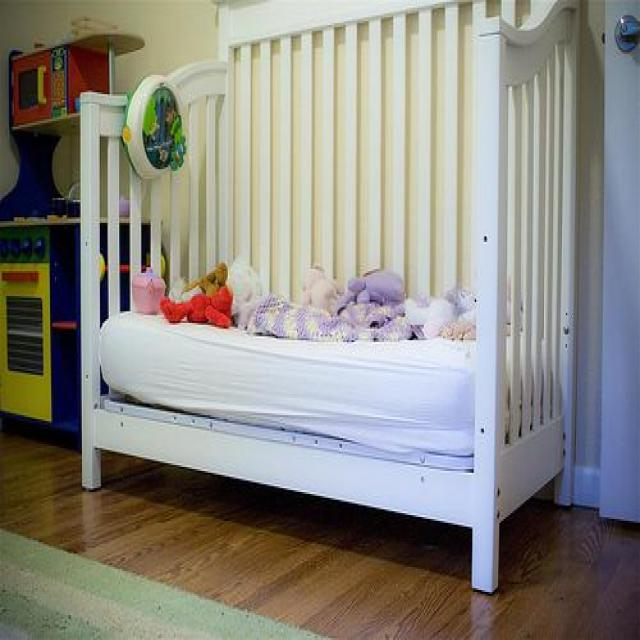bed: (77, 0, 581, 594)
